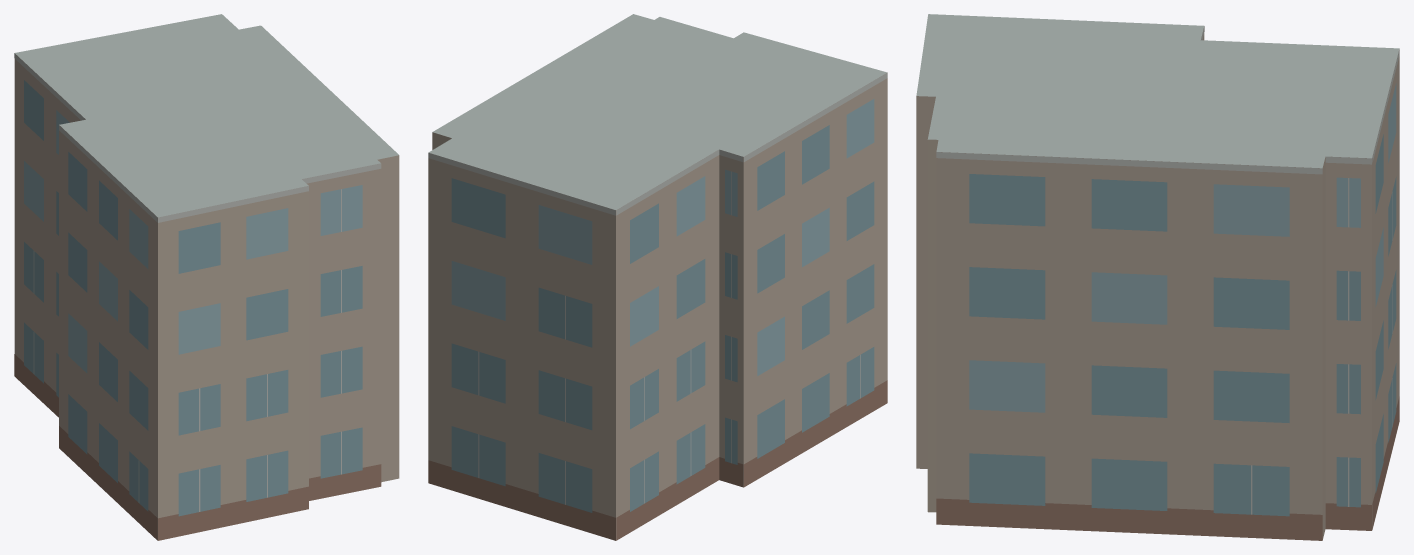
The model's file is survey-upis-32520529.glb.
3 renders of one model, left to right at view 1: azimuth 30°, elevation 25°; view 2: azimuth 150°, elevation 25°; view 3: azimuth 270°, elevation 25°, orthographic. The views are drawn at different scales.
Parts seen in each view (by area): view 1: survey-upis-32520529.tmp; view 2: survey-upis-32520529.tmp; view 3: survey-upis-32520529.tmp.
Part boxes in pixels (x1,y1,x2,y2): survey-upis-32520529.tmp: [14, 14, 399, 540]; survey-upis-32520529.tmp: [428, 14, 887, 540]; survey-upis-32520529.tmp: [916, 14, 1399, 540].
Size of the model in its own units: 12.97 by 14.6 by 17.17.
